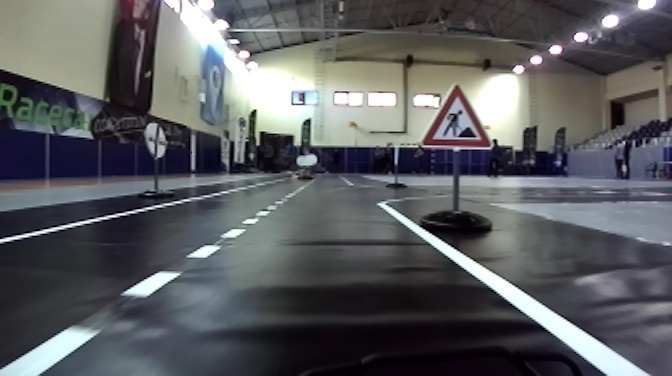yol_yapimi: (419, 81, 495, 149)
